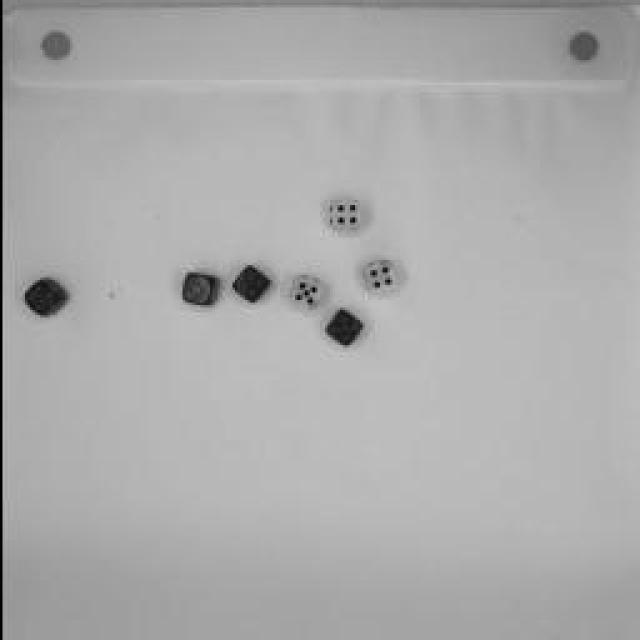dice_3: (172, 265, 222, 310)
dice_4: (316, 195, 366, 237), (228, 260, 272, 305), (356, 259, 402, 299)
dice_5: (320, 306, 365, 349), (284, 270, 326, 310)
dice_6: (22, 278, 68, 322)
